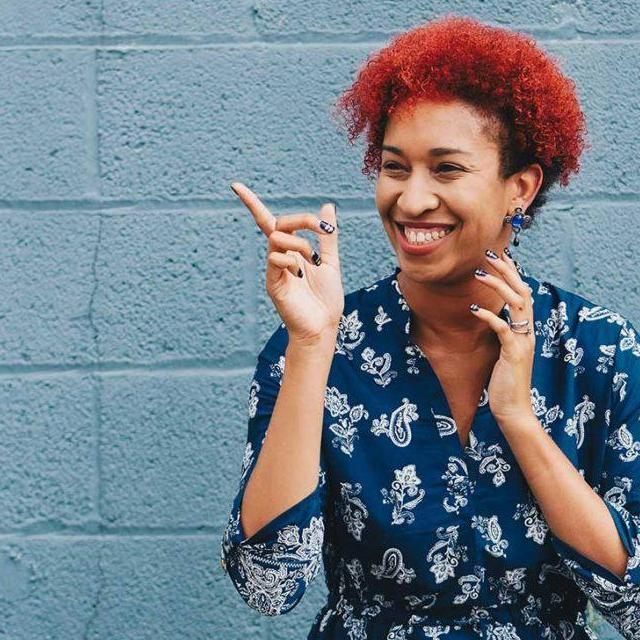NO-Hardhat: (360, 25, 563, 147)
NO-Mask: (382, 216, 495, 284)
NO-Safety Vest: (302, 277, 593, 640)
Person: (219, 22, 640, 640)
